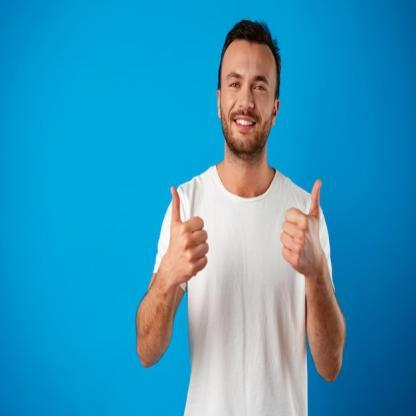thumb_up: (276, 178, 328, 278), (160, 183, 209, 284)
